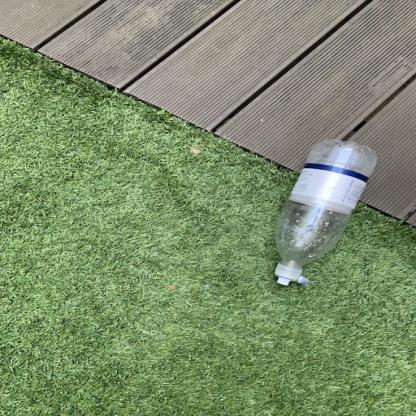trash: (270, 139, 378, 288)
